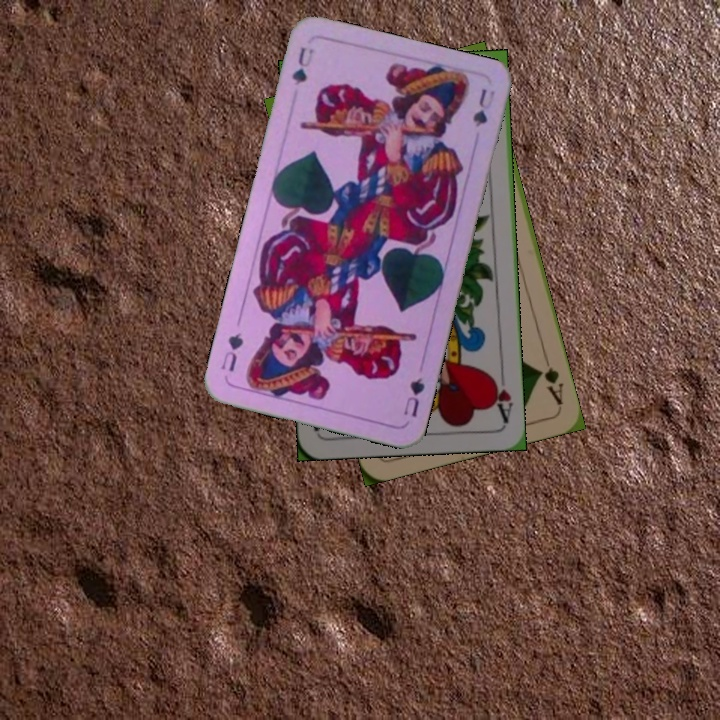GA: (534, 350, 566, 408)
GU: (400, 373, 428, 420), (287, 43, 316, 88)
HA: (487, 365, 516, 424)
